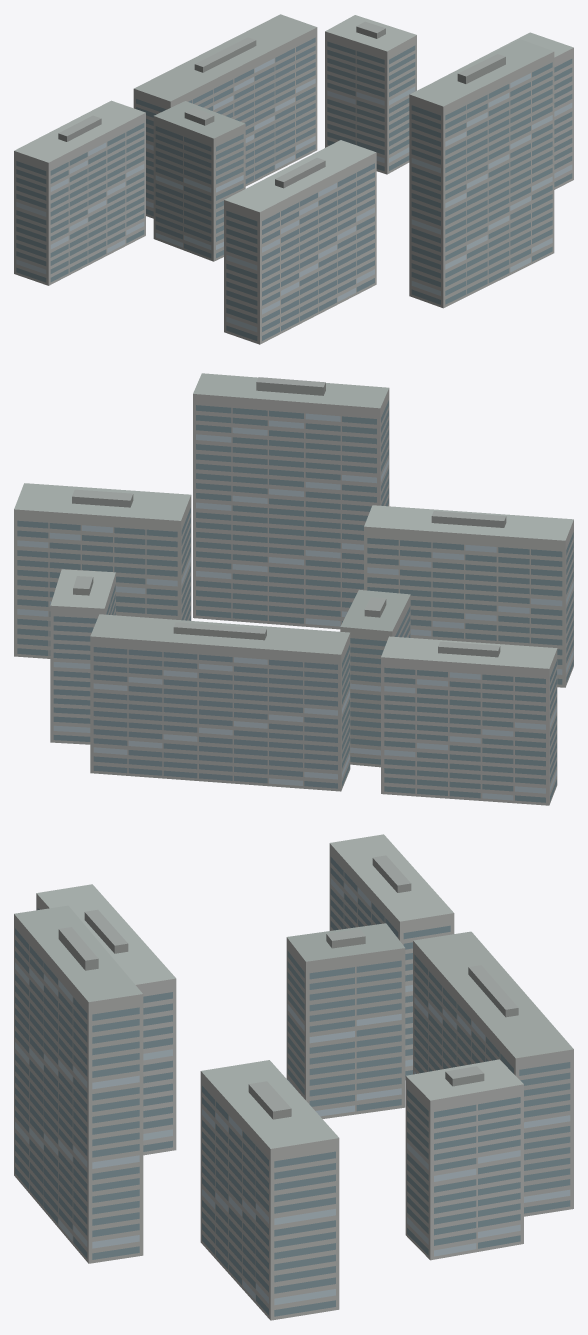
Rendered from apt-a13816101.glb.
3 renders of one model, top to bottom at view 1: azimuth 30°, elevation 25°; view 2: azimuth 150°, elevation 25°; view 3: azimuth 270°, elevation 25°, orthographic. The views are drawn at different scales.
Parts seen in each view (by area): view 1: apt-a13816101; view 2: apt-a13816101; view 3: apt-a13816101.
Part boxes in pixels (x1,y1,x2,y2): apt-a13816101: (14, 14, 573, 344); apt-a13816101: (14, 373, 573, 805); apt-a13816101: (14, 834, 573, 1320).
Size of the model in its own units: 168 by 65 by 121.
